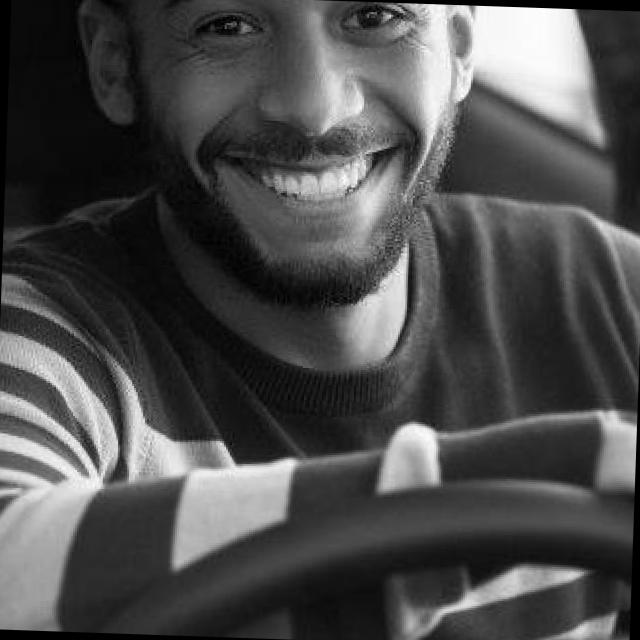Focused: (119, 0, 475, 305)
